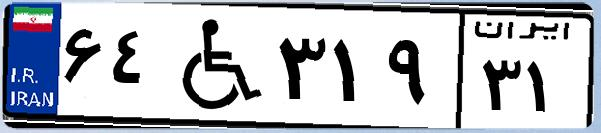1: (330, 28, 385, 110), (525, 38, 570, 115)
3: (270, 28, 330, 110), (475, 38, 525, 113)
4: (110, 28, 158, 98)
6: (57, 26, 110, 100)
9: (385, 28, 445, 110)
ژ (معلولین و جانبازان): (158, 12, 270, 120)
